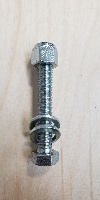FinishedAssembly: (26, 41, 70, 170)
